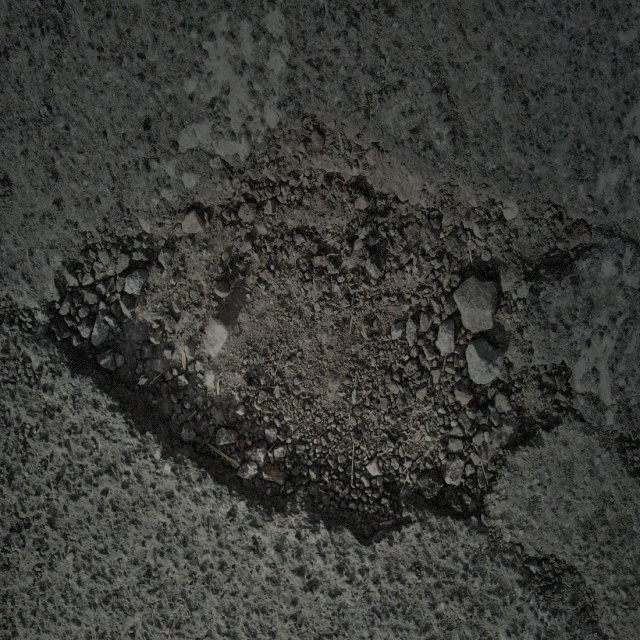pothole: (46, 132, 586, 541)
